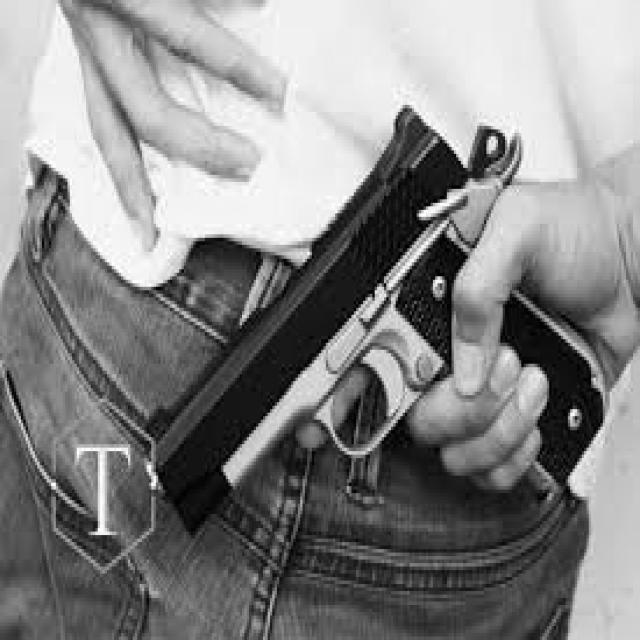handgun: (152, 101, 617, 536)
